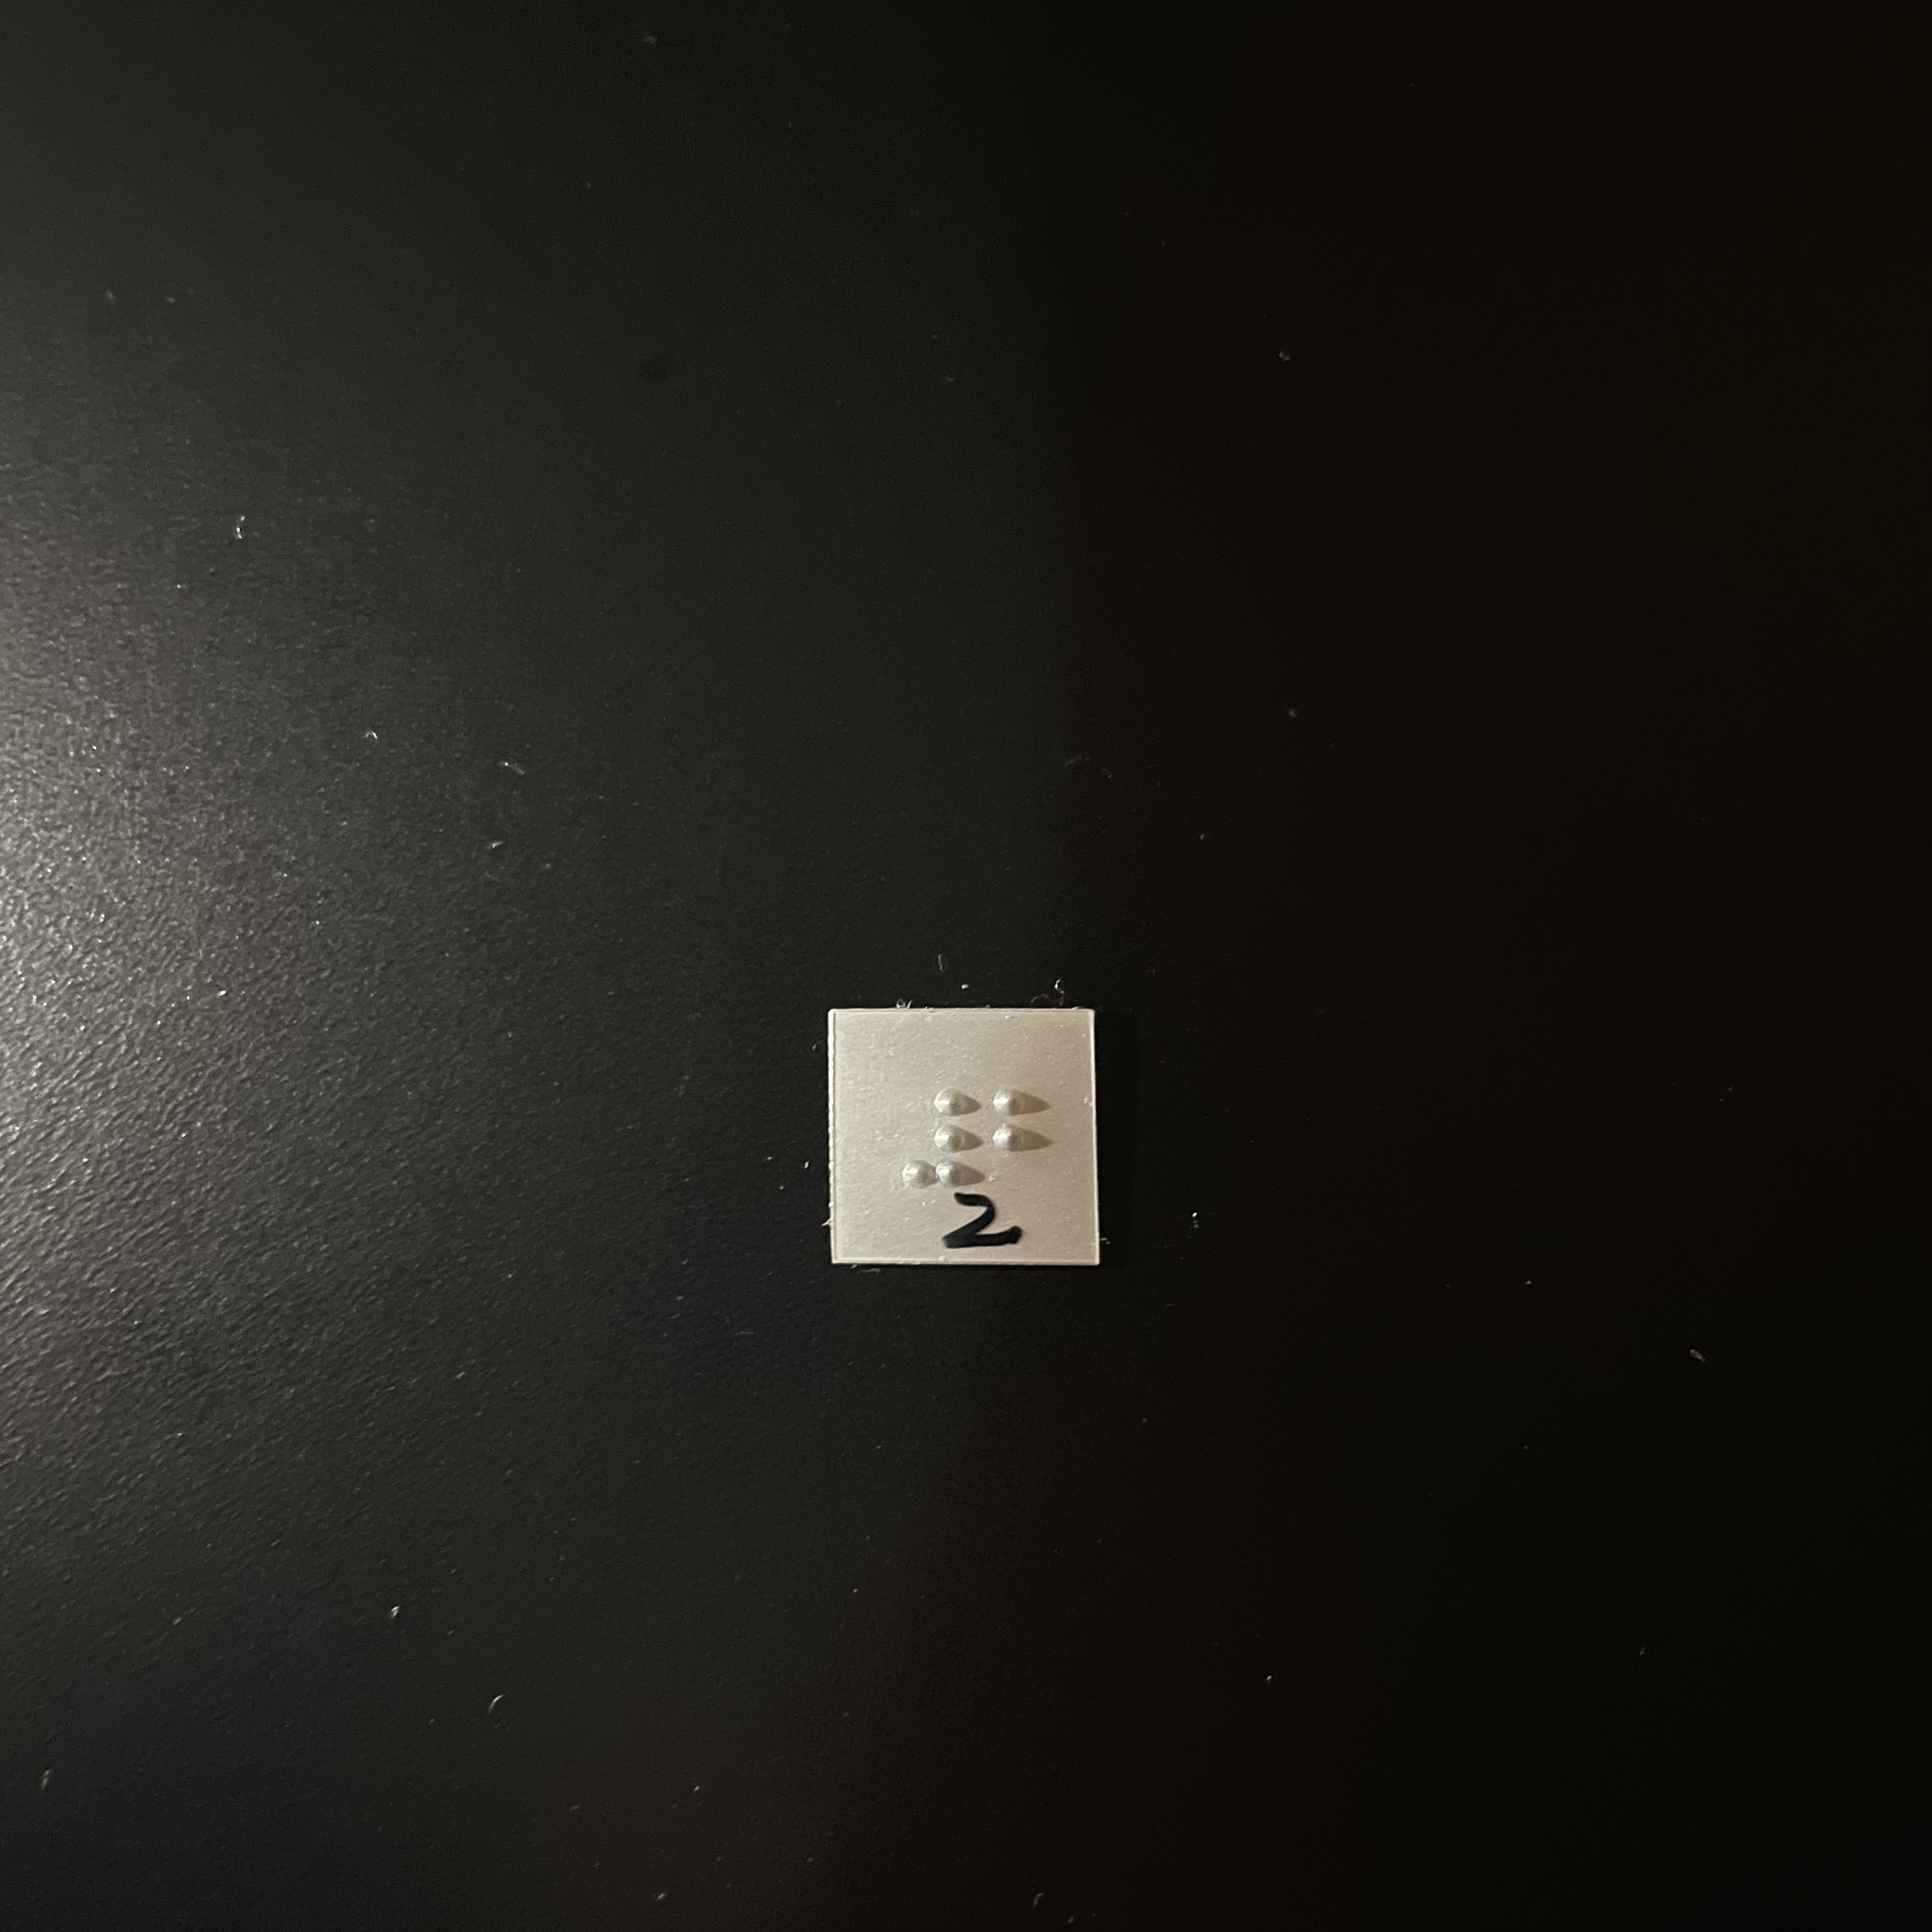#: (900, 1084, 985, 1196)
b: (994, 1084, 1062, 1196)
